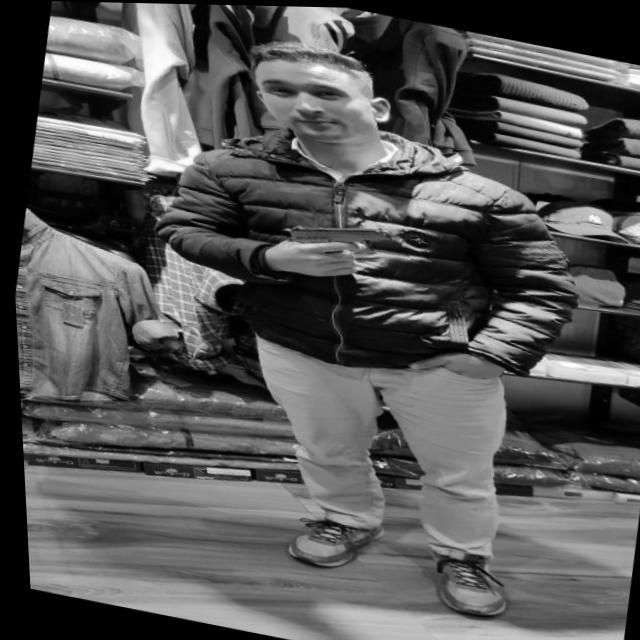weapon: (272, 206, 401, 279)
